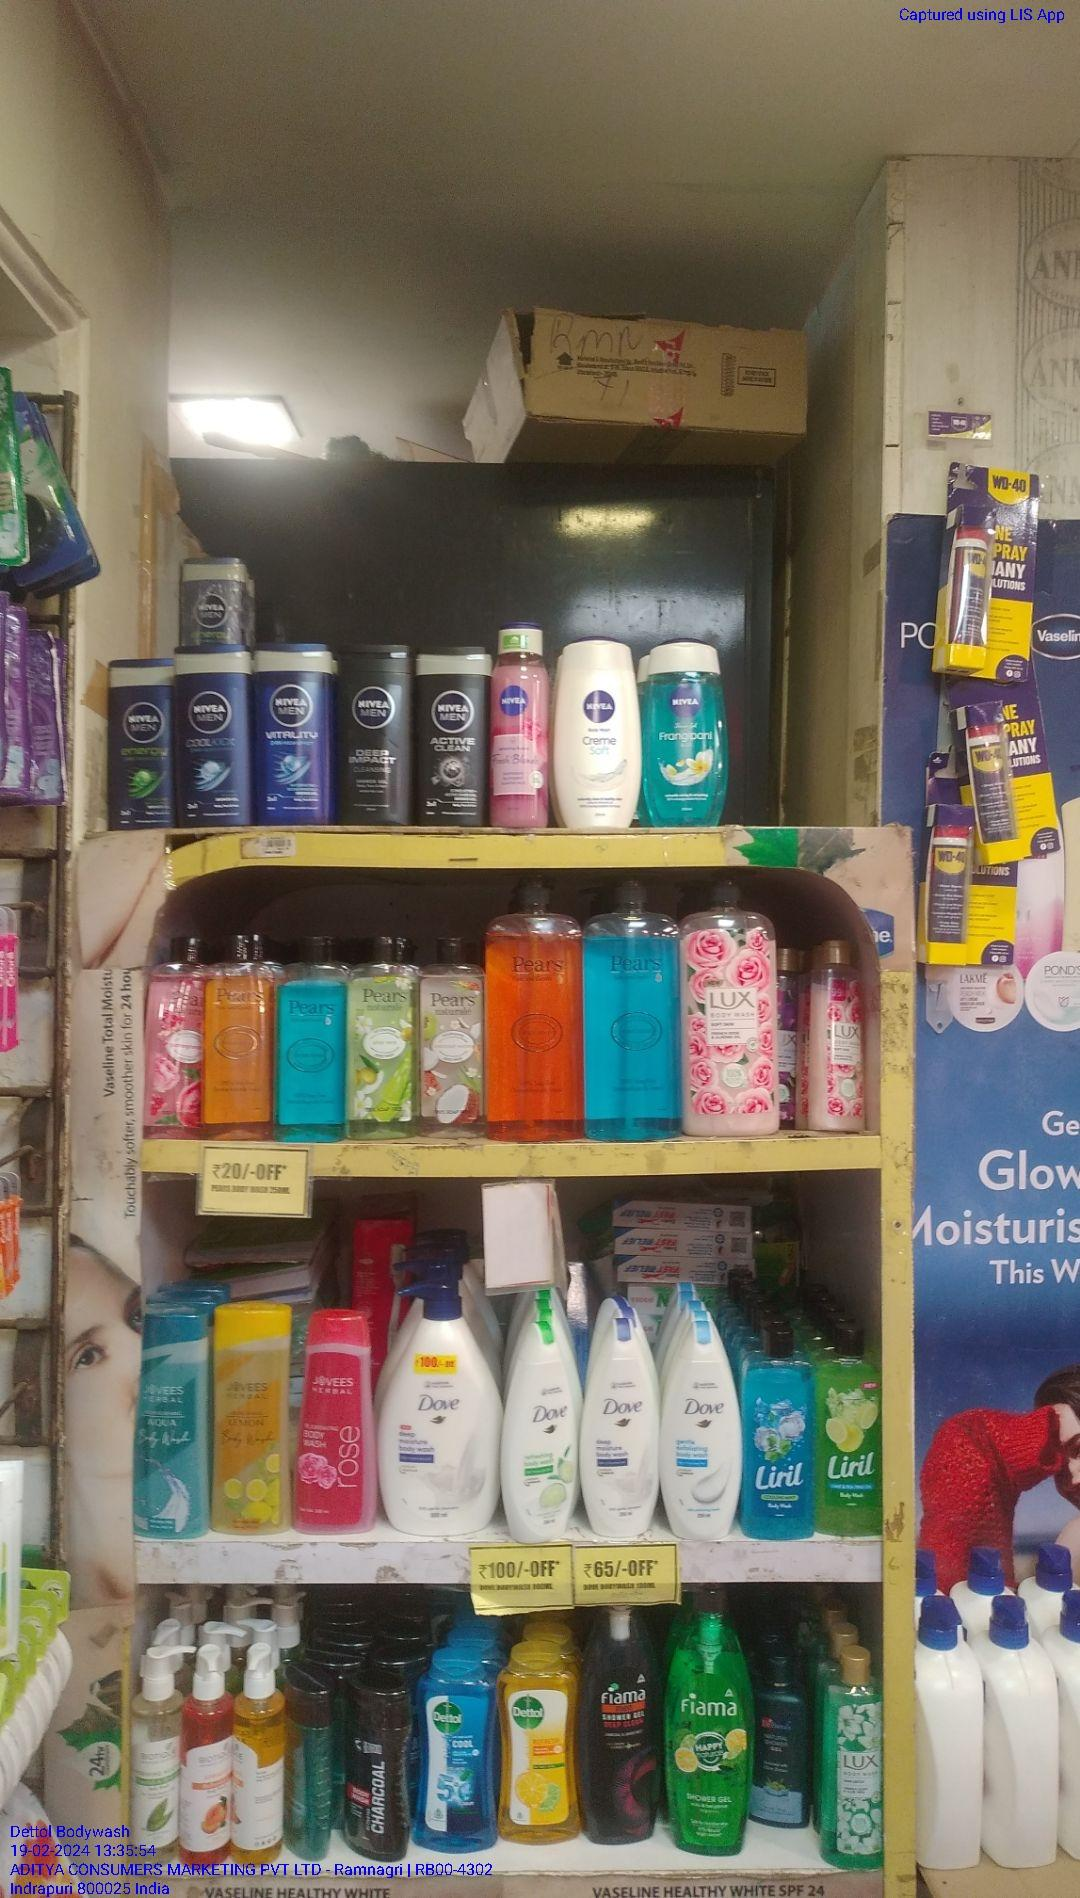Dettol_Bodywash_Cool: (419, 1646, 498, 1854)
Dettol_Bodywash_Refresh: (498, 1641, 579, 1845)
Dove_Deep_Moisture_Body_Wash_250ML: (583, 1311, 656, 1543)
Dove_Gentle_Exfoliating_Body_Wash_250ML: (665, 1315, 741, 1542)
Dove_Refreshing_Body_Wash_250ML: (501, 1313, 583, 1542)
Liril_Cooling_Mint_Body_Wash_250ML: (745, 1326, 814, 1533)
Liril_Lime_and_Tea_Tree_Oil_Body_Wash_250ML: (817, 1327, 890, 1538), (819, 1650, 886, 1859)
Nivea_Creme_Soft_Body_Wash_250ML: (552, 635, 640, 823)
Nivea_Shower_Gel_Frangipani_and_Oil_250ML: (647, 636, 723, 817)
Pears_Naturale_Aloe_Vera_Body_Wash_250ML: (350, 937, 413, 1139)
Pears_Pure_Glycerin_and_Mint_Extracts_Body_Wash_250ML: (270, 941, 344, 1142)
